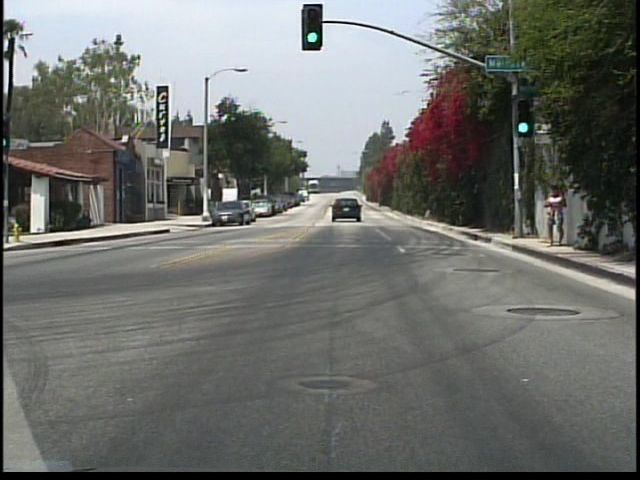person: (543, 184, 572, 251)
